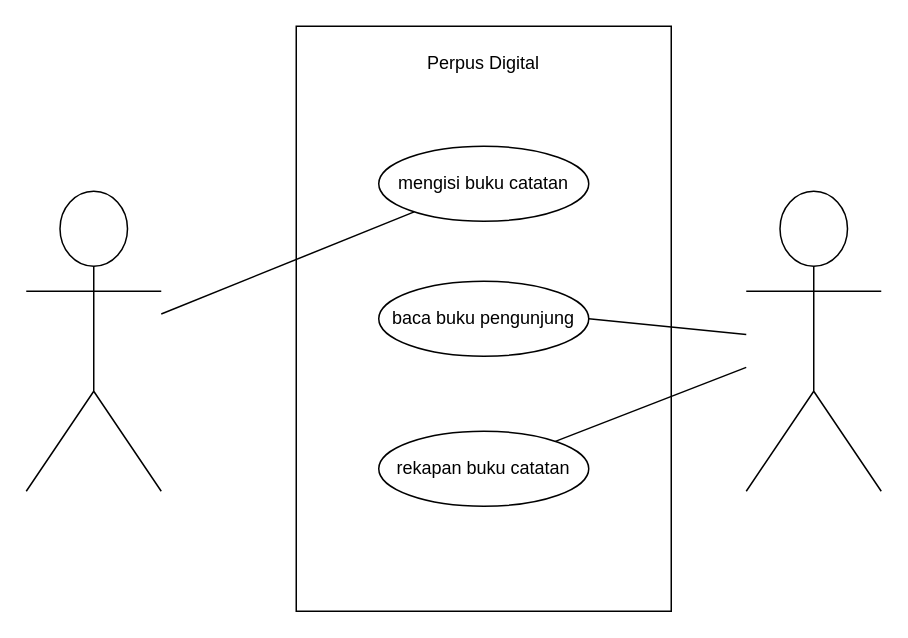
The diagram is 908 pixels wide and 638 high, and some of its shapes have lost their labels. The box of each missing label's shape, as (x1, y1, x2, y2) in pixels:
anggota: (25, 190, 161, 491)
perpustakaan: (745, 190, 881, 491)
